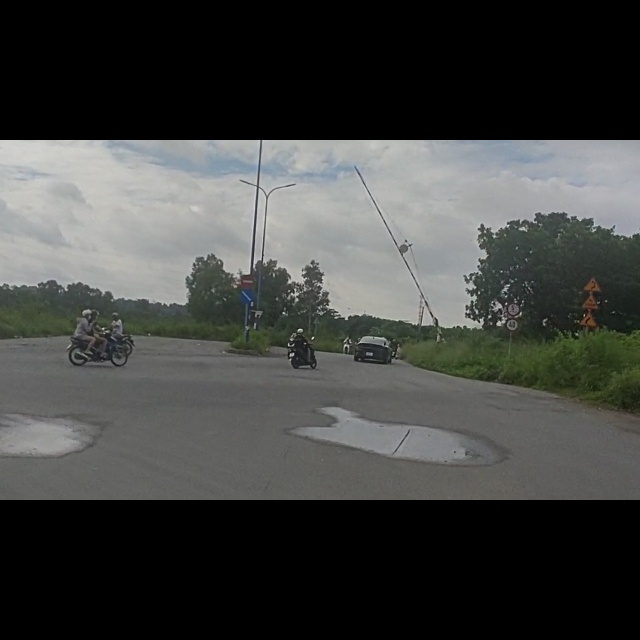bien_chi_dan: (583, 238, 602, 270), (579, 303, 599, 333), (582, 270, 601, 300), (240, 264, 256, 295), (239, 237, 255, 264), (507, 315, 519, 341)
